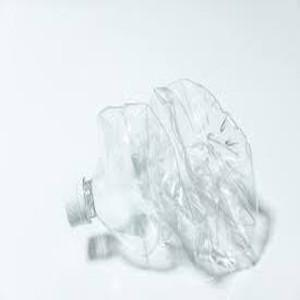Plastic: (66, 77, 270, 277)
